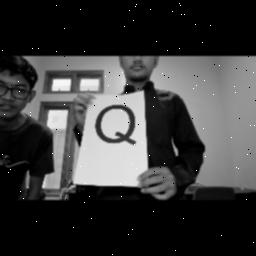q: (92, 101, 142, 151)
